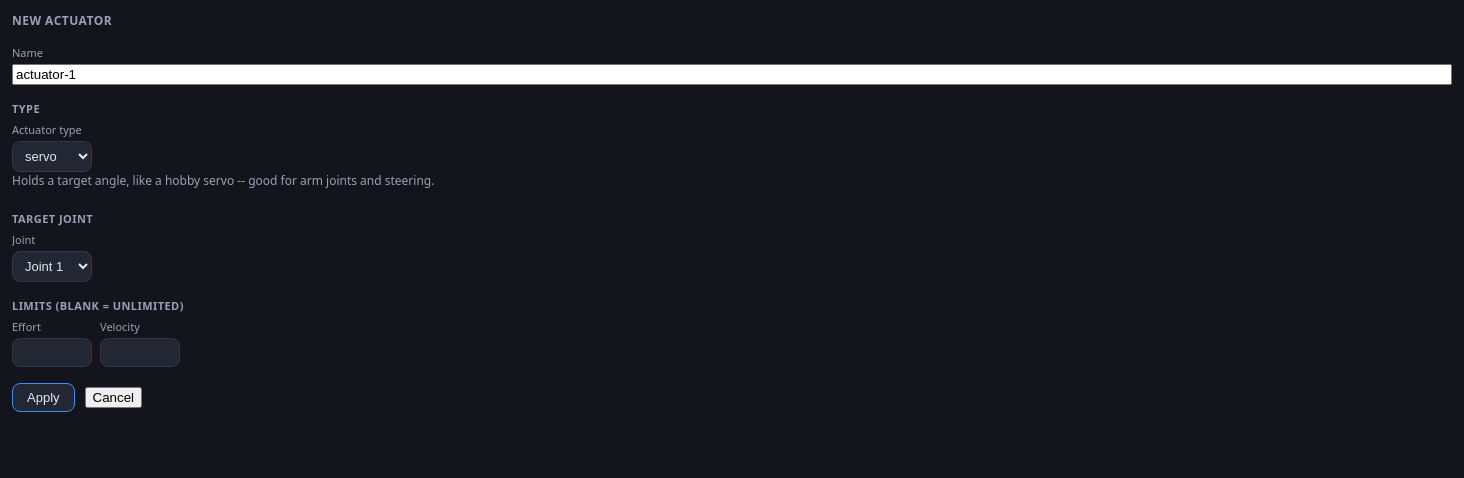
Test: ActuatorCreator › warns when the target joint is ball/free (no matching MuJoCo actuator)
The width and height of the screenshot is (1464, 478).
Select "Ball 1 (ball)" in the dropdown named "actuator target joint" at coordinates (52, 266), box [12,251,92,282]
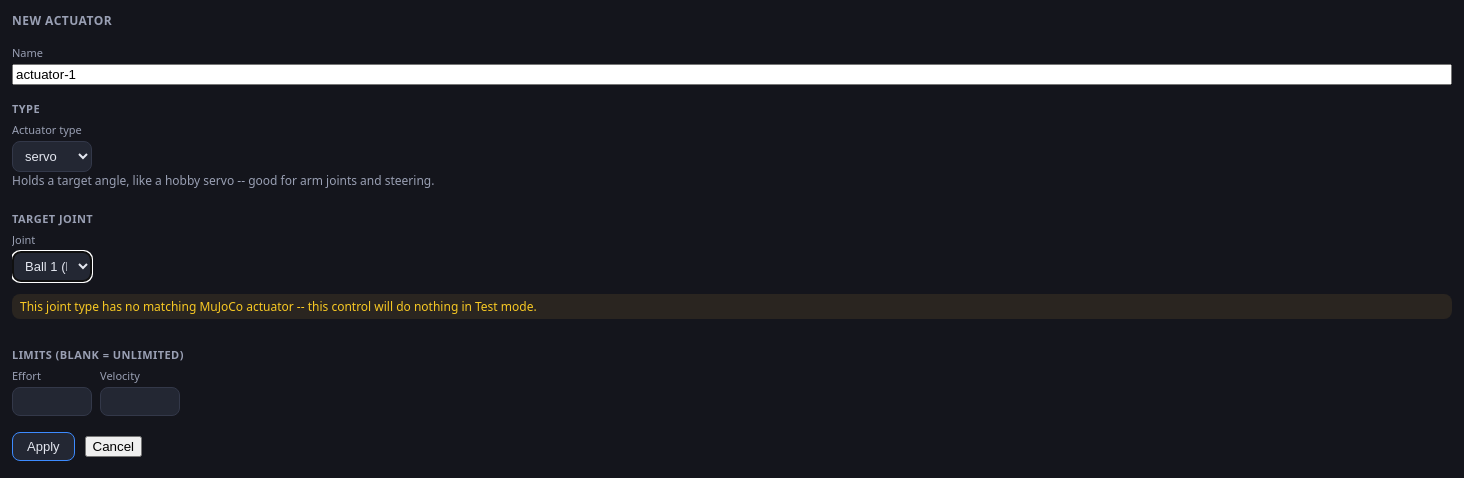
Expected: the text "no matching MuJoCo actuator" is shown, [20,298,537,315]
